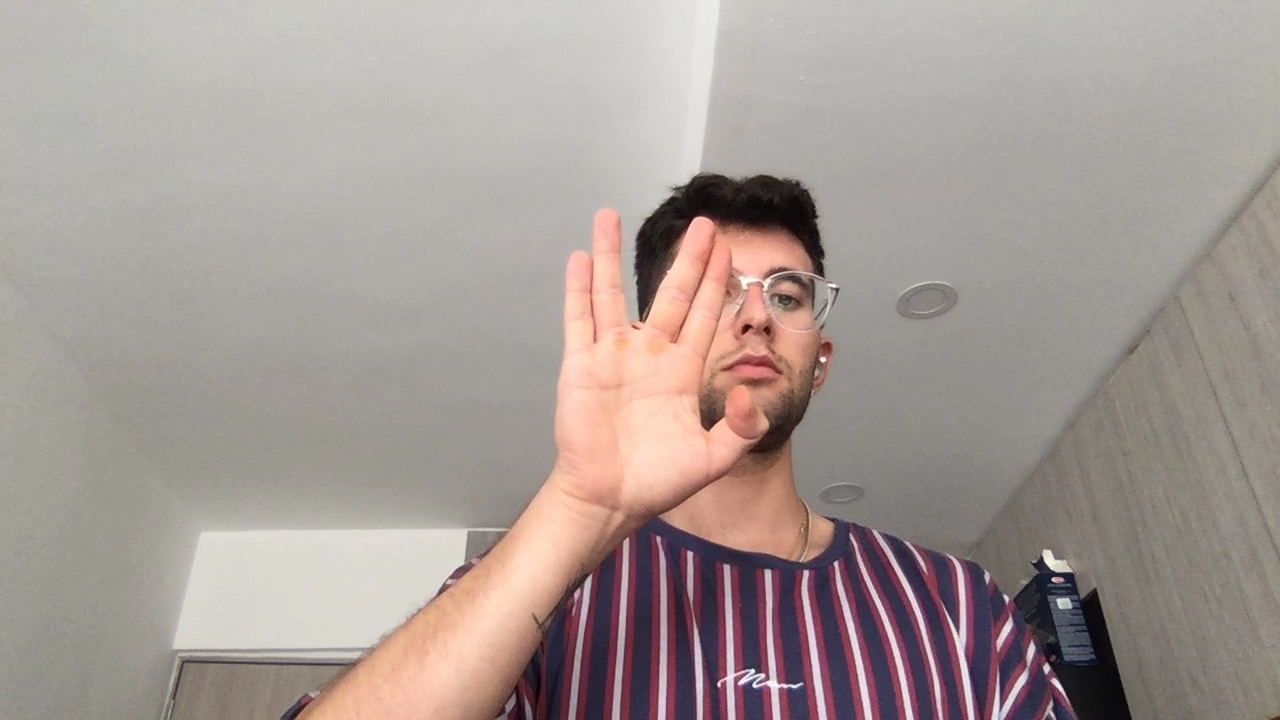LiveLong: (544, 202, 772, 518)
